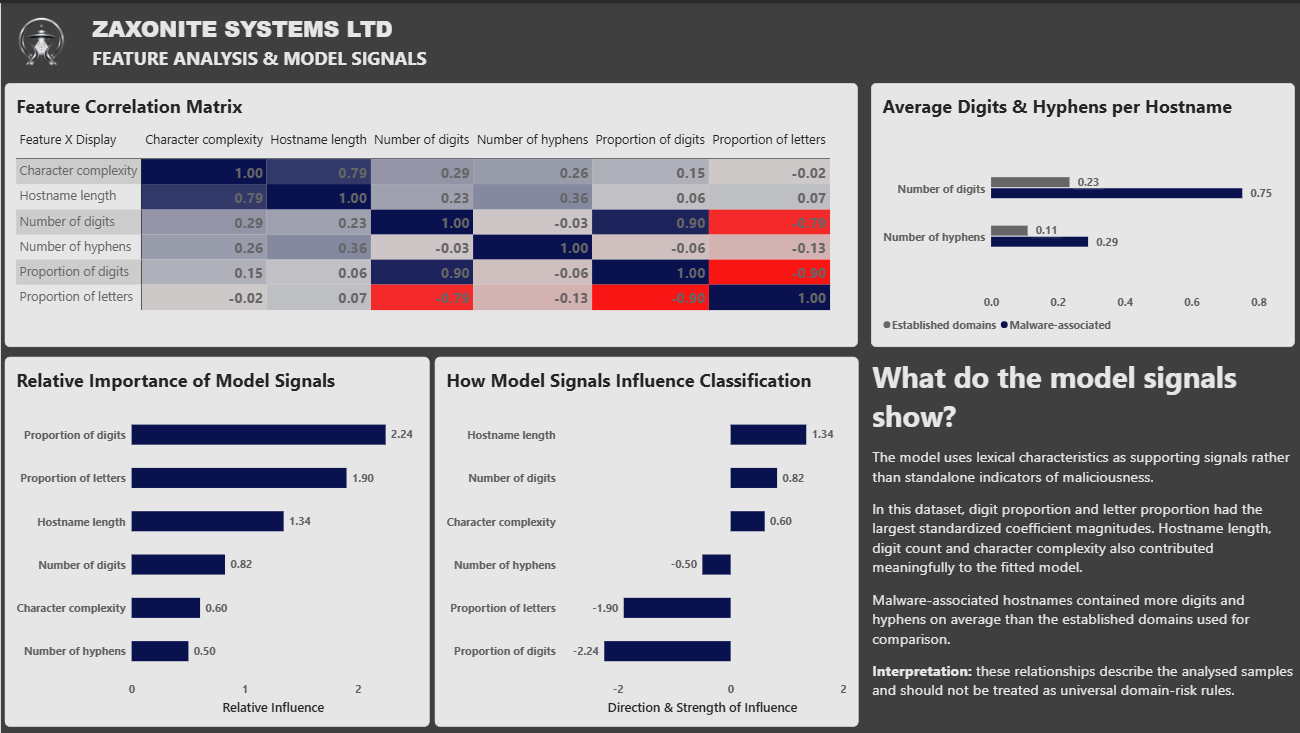

Layout of this report page (visuals, bound fields, positions):
{"tool":"powerbi","page":{"name":"Feature Analysis","canvas":[1920,1080],"ordinal":3},"visuals":[{"type":"textbox","box":[134.5,61.7,500.5,55.1],"z":0},{"type":"image","box":[0,0,119.1,116.9],"z":1000},{"type":"textbox","box":[133.8,14.4,473.4,47.3],"z":2000},{"type":"clusteredBarChart","title":"Relative Importance of Model Signals","fields":{"Y":["Sum(candidate_coefficients.Absolute Coefficient)"],"Category":["candidate_coefficients.Feature Display"]},"box":[6.4,521.2,625.9,544.7],"z":3000},{"type":"clusteredBarChart","title":"How Model Signals Influence Classification","fields":{"Y":["Sum(candidate_coefficients.Standardized Coefficient)"],"Category":["candidate_coefficients.Feature Display"]},"box":[638.7,521.2,623.8,544.7],"z":4000},{"type":"pivotTable","title":"Feature Correlation Matrix","fields":{"Values":["Avg(feature_correlations.Correlation)"],"Rows":["feature_correlations.Feature X Display"],"Columns":["feature_correlations.Feature Y Display"]},"box":[6.4,117.5,1256.1,388.8],"z":5000},{"type":"clusteredBarChart","title":"Average Digits & Hyphens per Hostname","fields":{"Y":["Avg(feature_statistics.Mean)"],"Series":["feature_statistics.Source Display"],"Category":["feature_statistics.Feature Display"]},"box":[1281.7,117.5,623.8,388.8],"z":5001},{"type":"textbox","box":[1282,521,624,545],"z":5002}]}

Visuals, with their boxes in screenshot pixels (x1, y1, x2, y2), scaled from the page's 1920x1080 canvas onto the 1300x733 screenshot:
textbox: [x1=91, y1=42, x2=430, y2=79]
image: [x1=0, y1=0, x2=81, y2=79]
textbox: [x1=91, y1=10, x2=411, y2=42]
"Relative Importance of Model Signals" clusteredBarChart: [x1=4, y1=354, x2=428, y2=723]
"How Model Signals Influence Classification" clusteredBarChart: [x1=432, y1=354, x2=855, y2=723]
"Feature Correlation Matrix" pivotTable: [x1=4, y1=80, x2=855, y2=344]
"Average Digits & Hyphens per Hostname" clusteredBarChart: [x1=868, y1=80, x2=1290, y2=344]
textbox: [x1=868, y1=354, x2=1291, y2=723]
